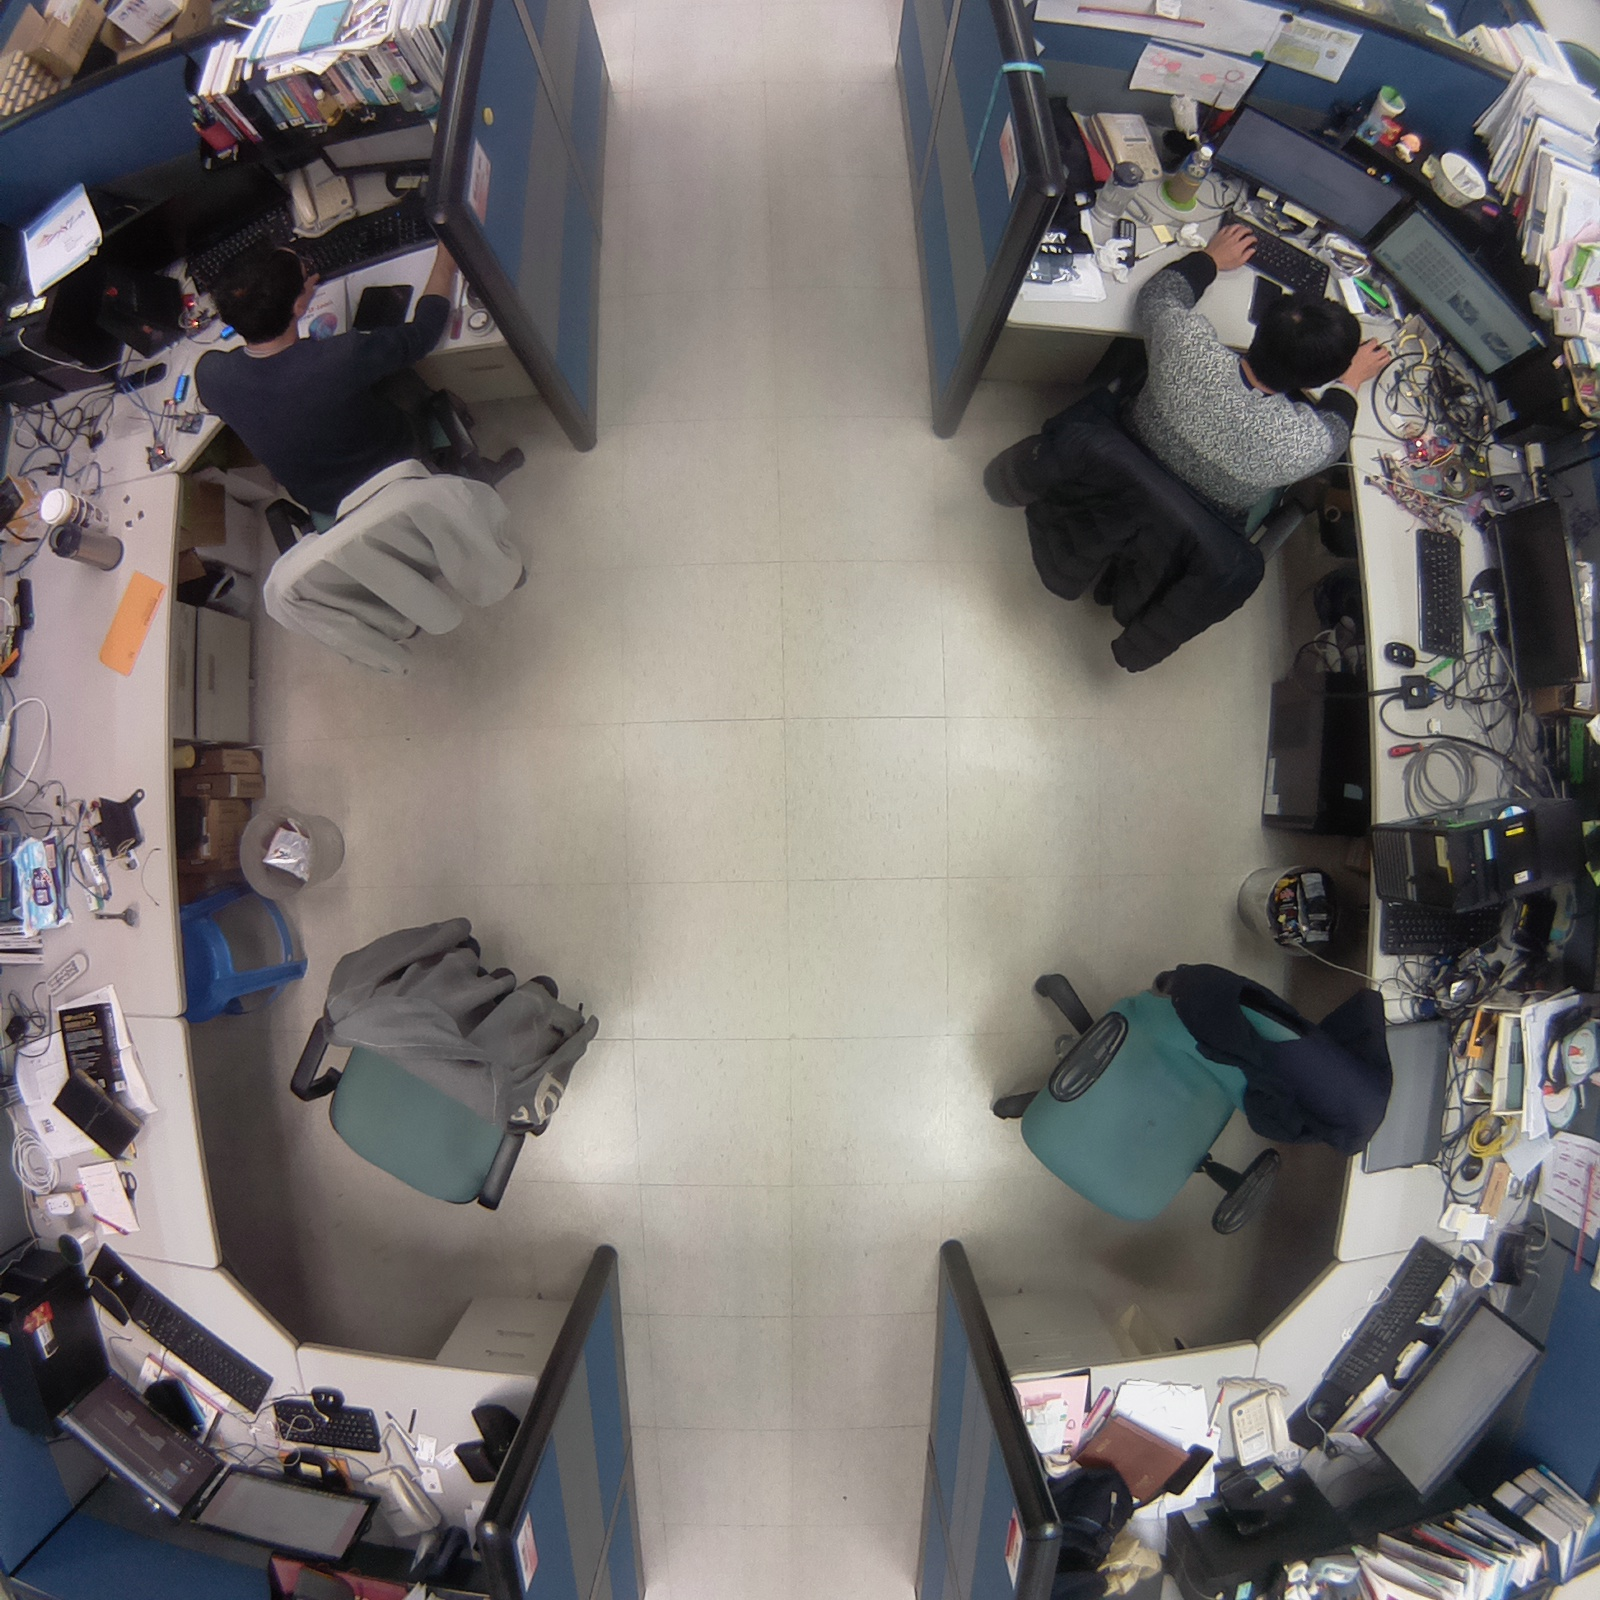chair: (963, 927, 1411, 1253), (270, 889, 624, 1234)
sitting: (963, 204, 1395, 699), (176, 207, 549, 681)
